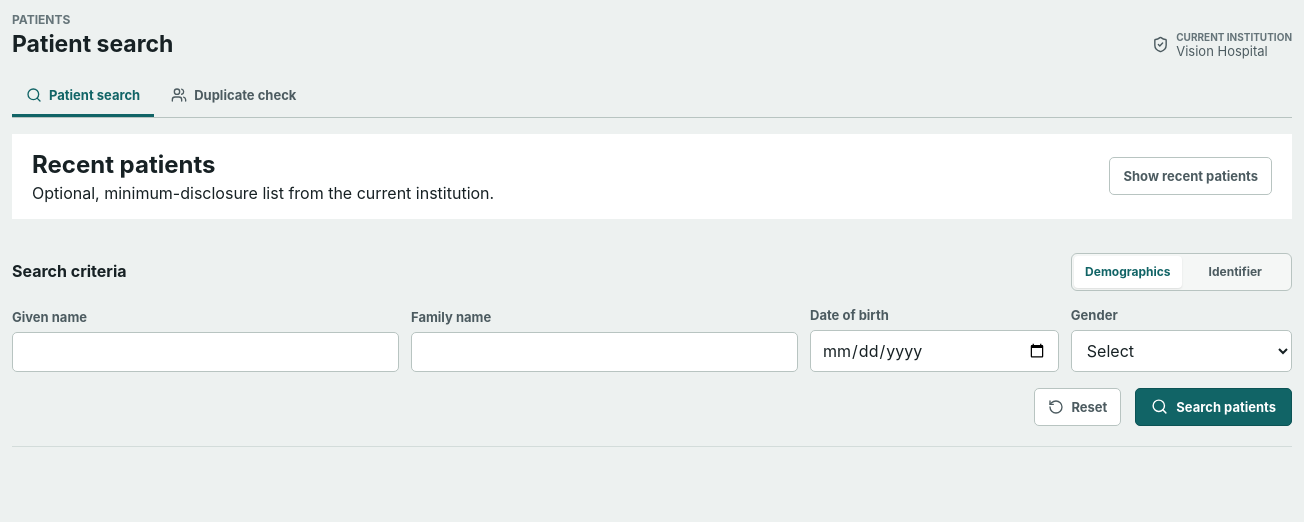
PatientSearchPage › maps rate limiting to a generic retry message
This screenshot has width=1304, height=522.
Type "Patient" into the field labelled "Family name" at (604, 352), box [411,332,798,372]
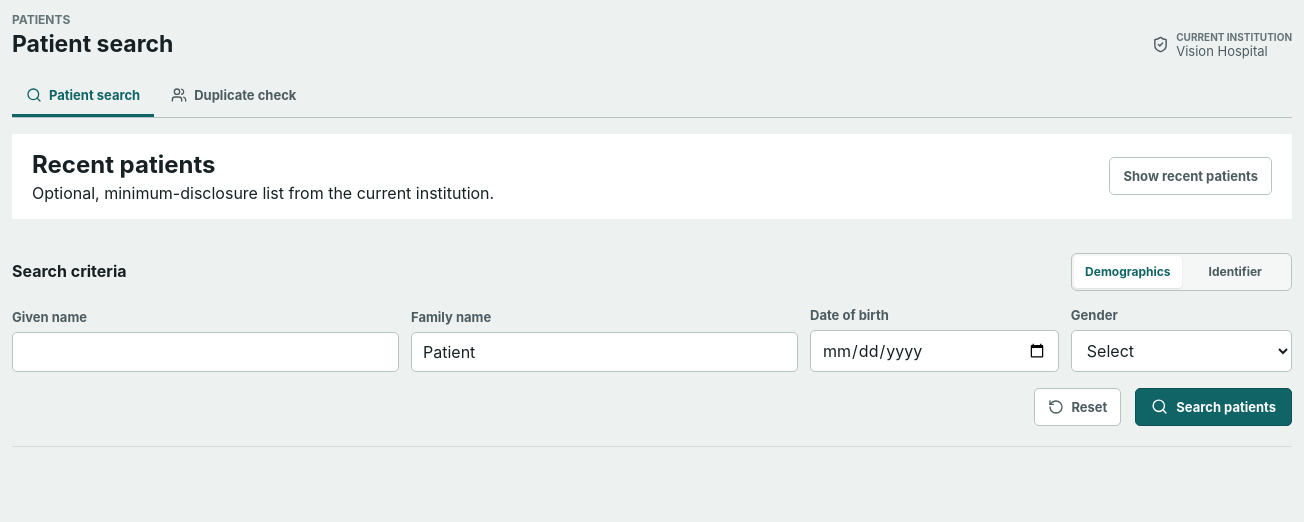
Type "1980-02-03" into the date field labelled "Date of birth" at (934, 351), box [810,330,1059,372]
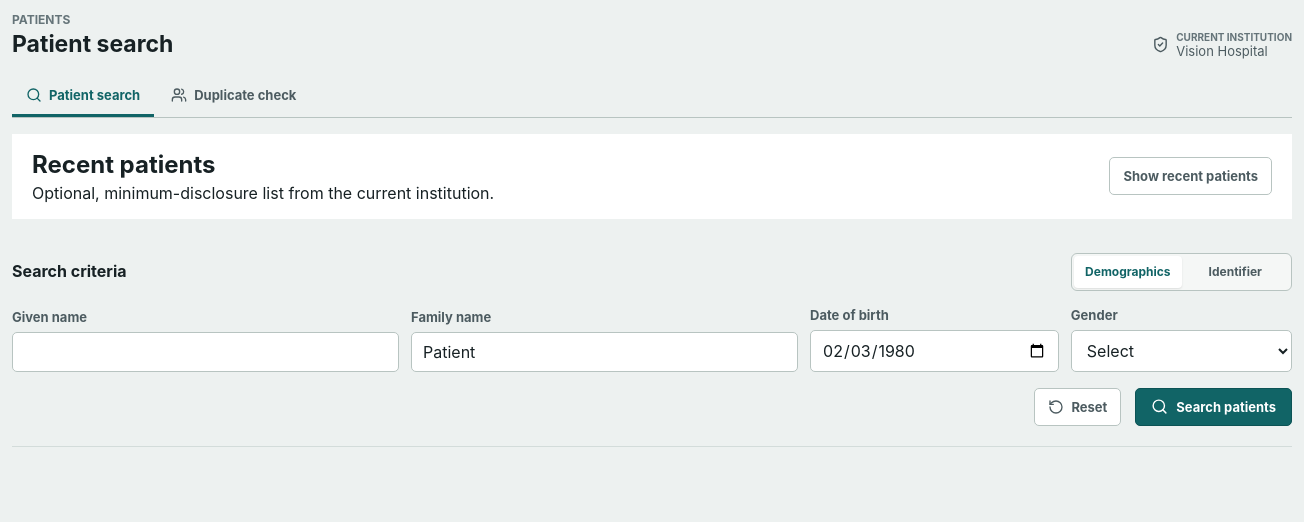
Select "Female" in the dropdown labelled "Gender" at (1181, 351), box [1071,330,1292,372]
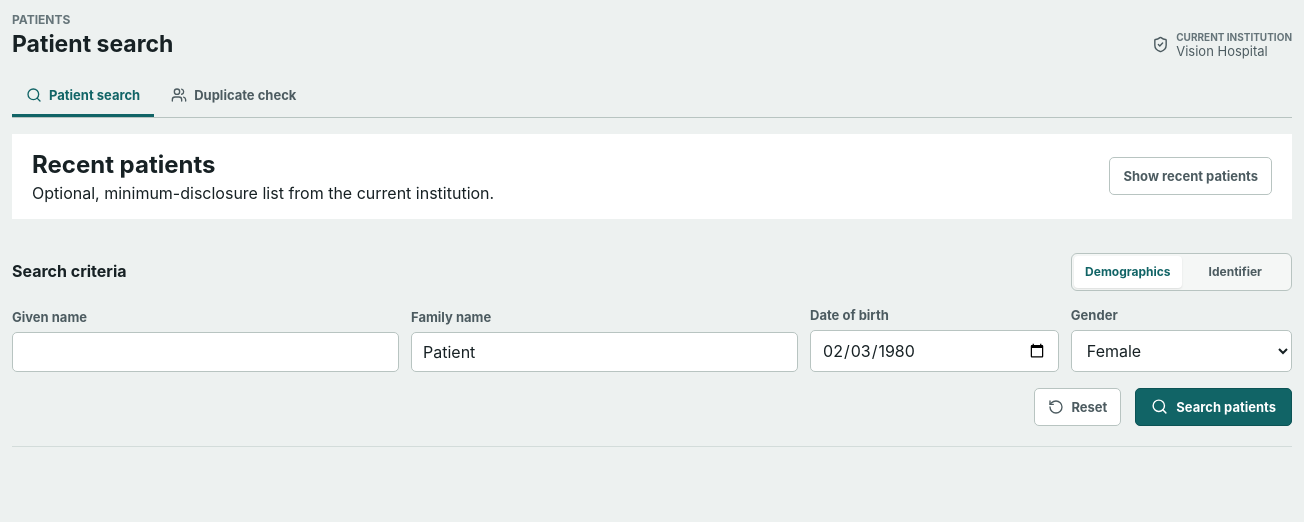
Click the button "Search patients" at (1214, 407), box [1135,388,1292,426]
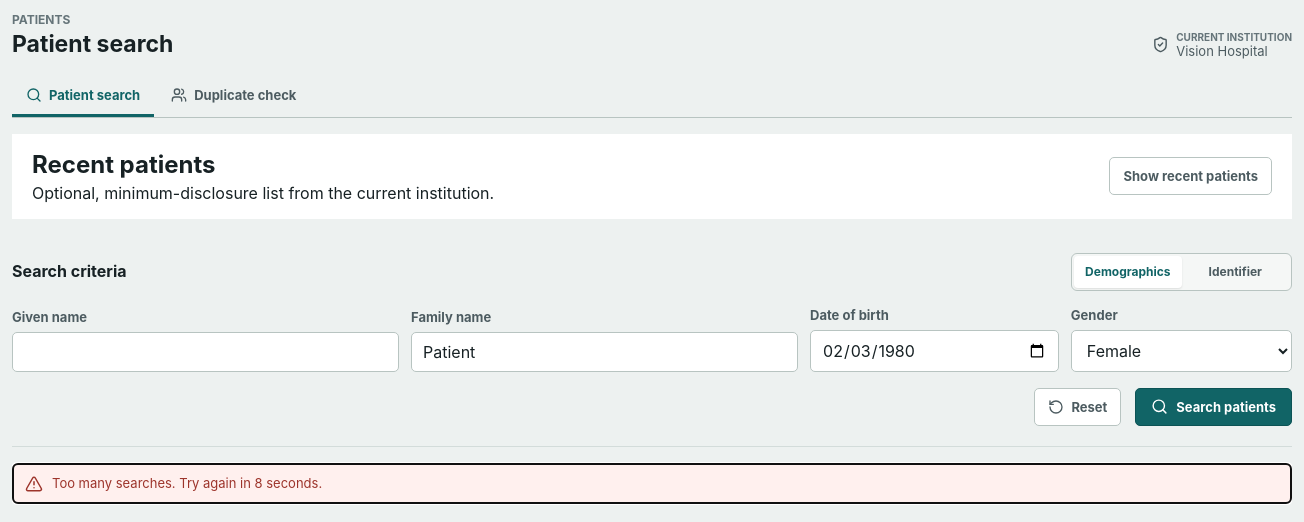
Check: the message shows "Try again in 8 seconds", box [52,475,322,491]
